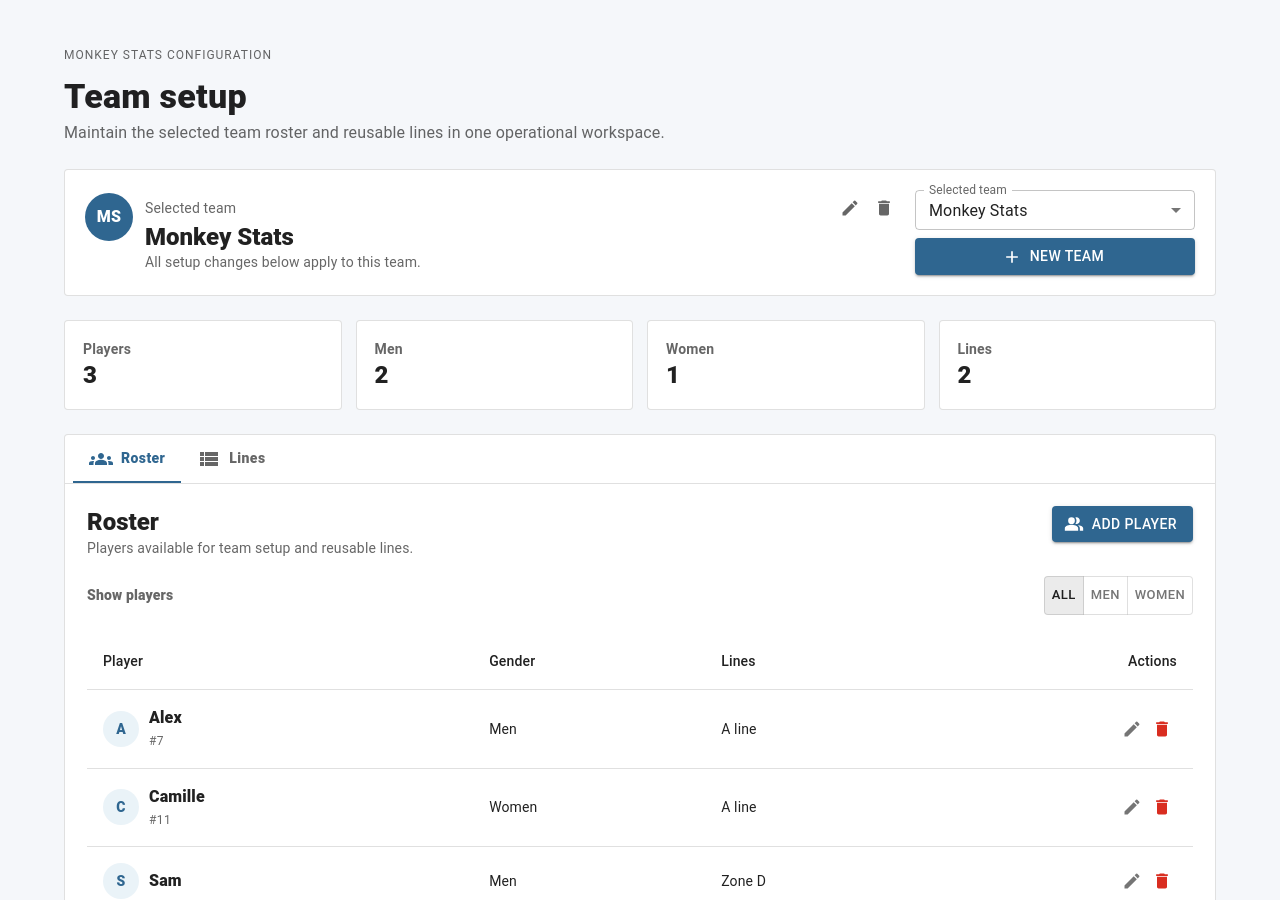
Test: TeamSetupPage › deletes the selected team and moves to the next available team
Check: the heading "Team setup" is shown, box [64,76,247,116]
Click the button named "Delete team" at (884, 208), box [869,193,899,223]
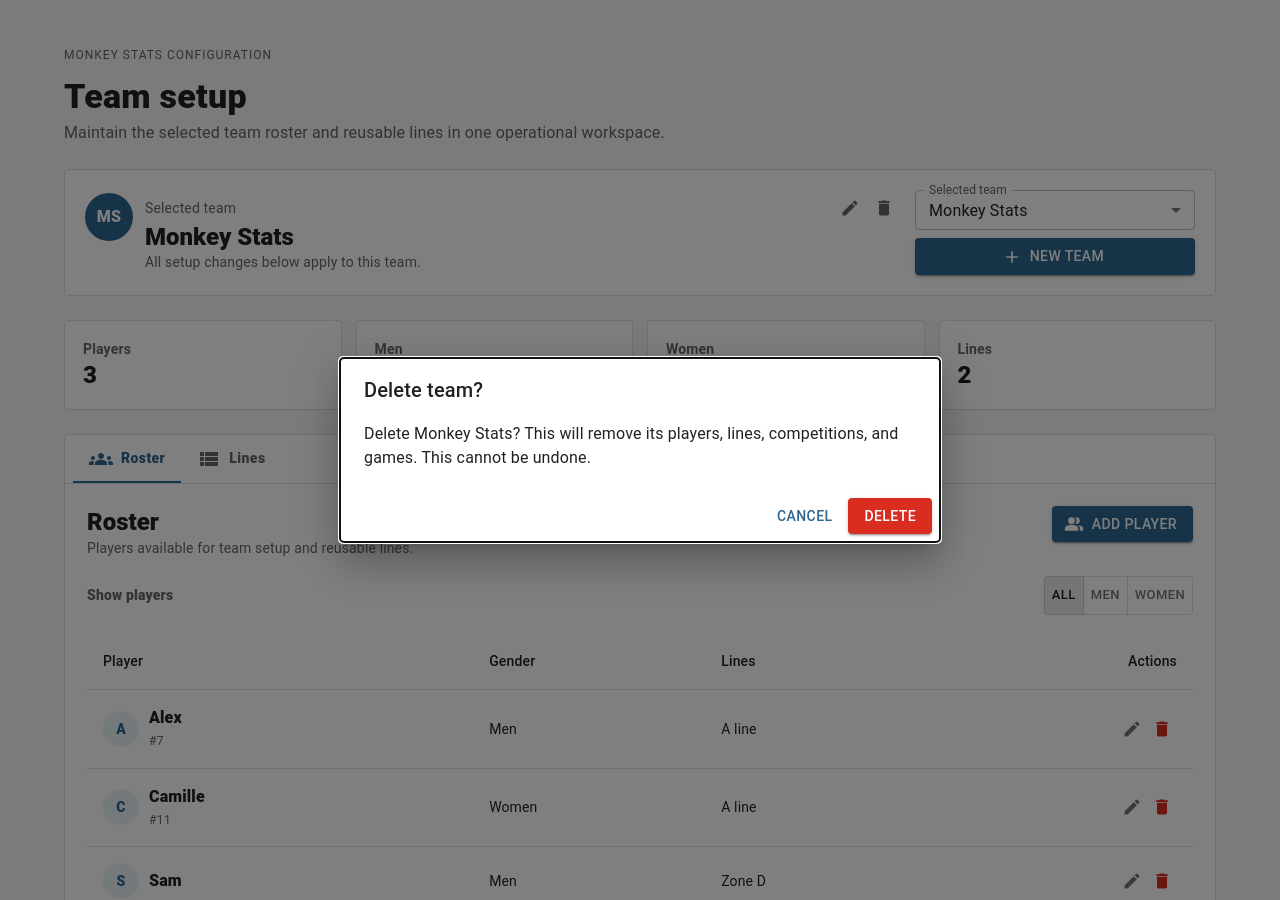
Check: the text "Delete Monkey Stats?" is shown, box [364,424,898,467]
Click the button "Delete" at (890, 516), box [848,498,932,534]
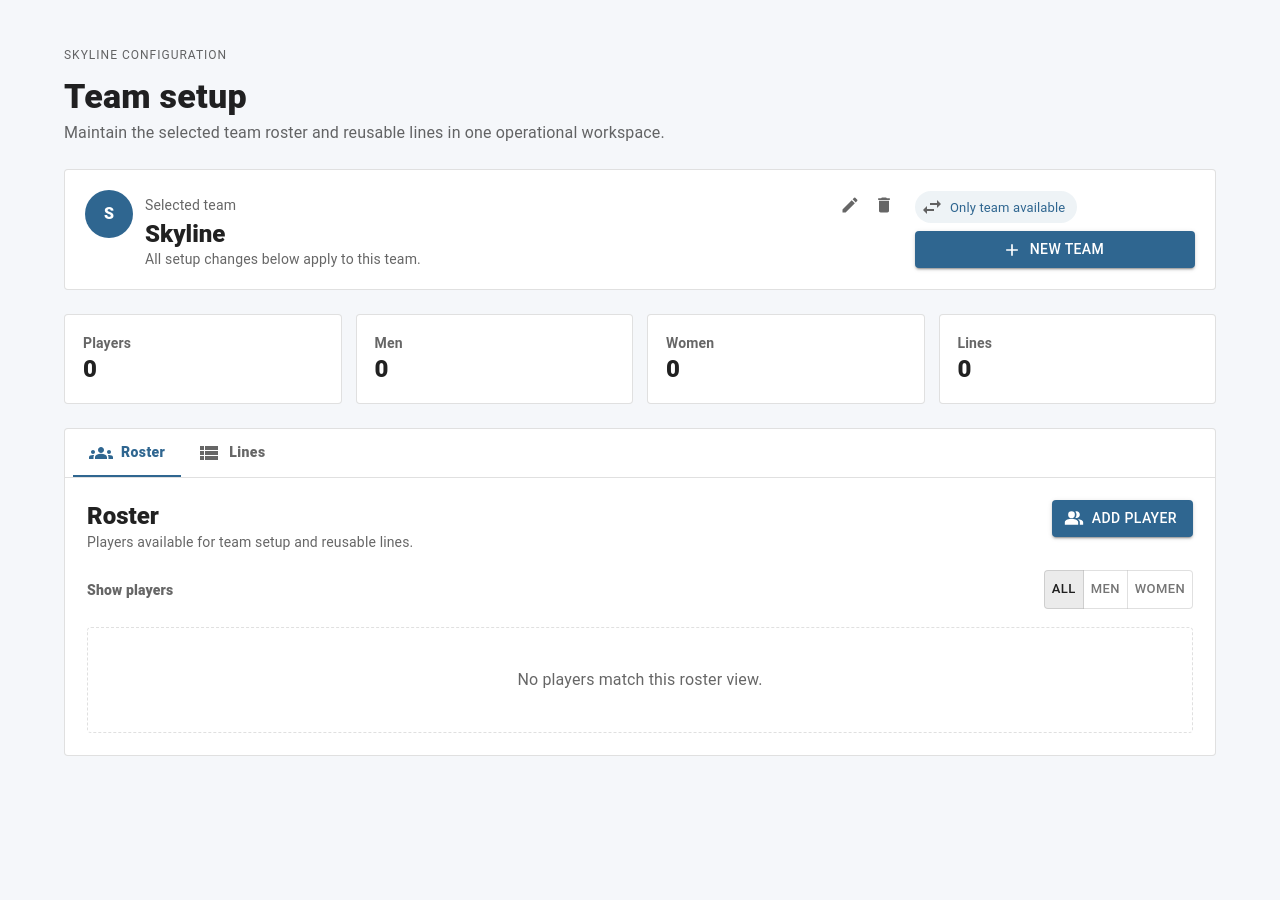
Check: the text "Skyline configuration" is shown, box [64,48,227,62]
Check: the text "Monkey Stats configuration" is gone
